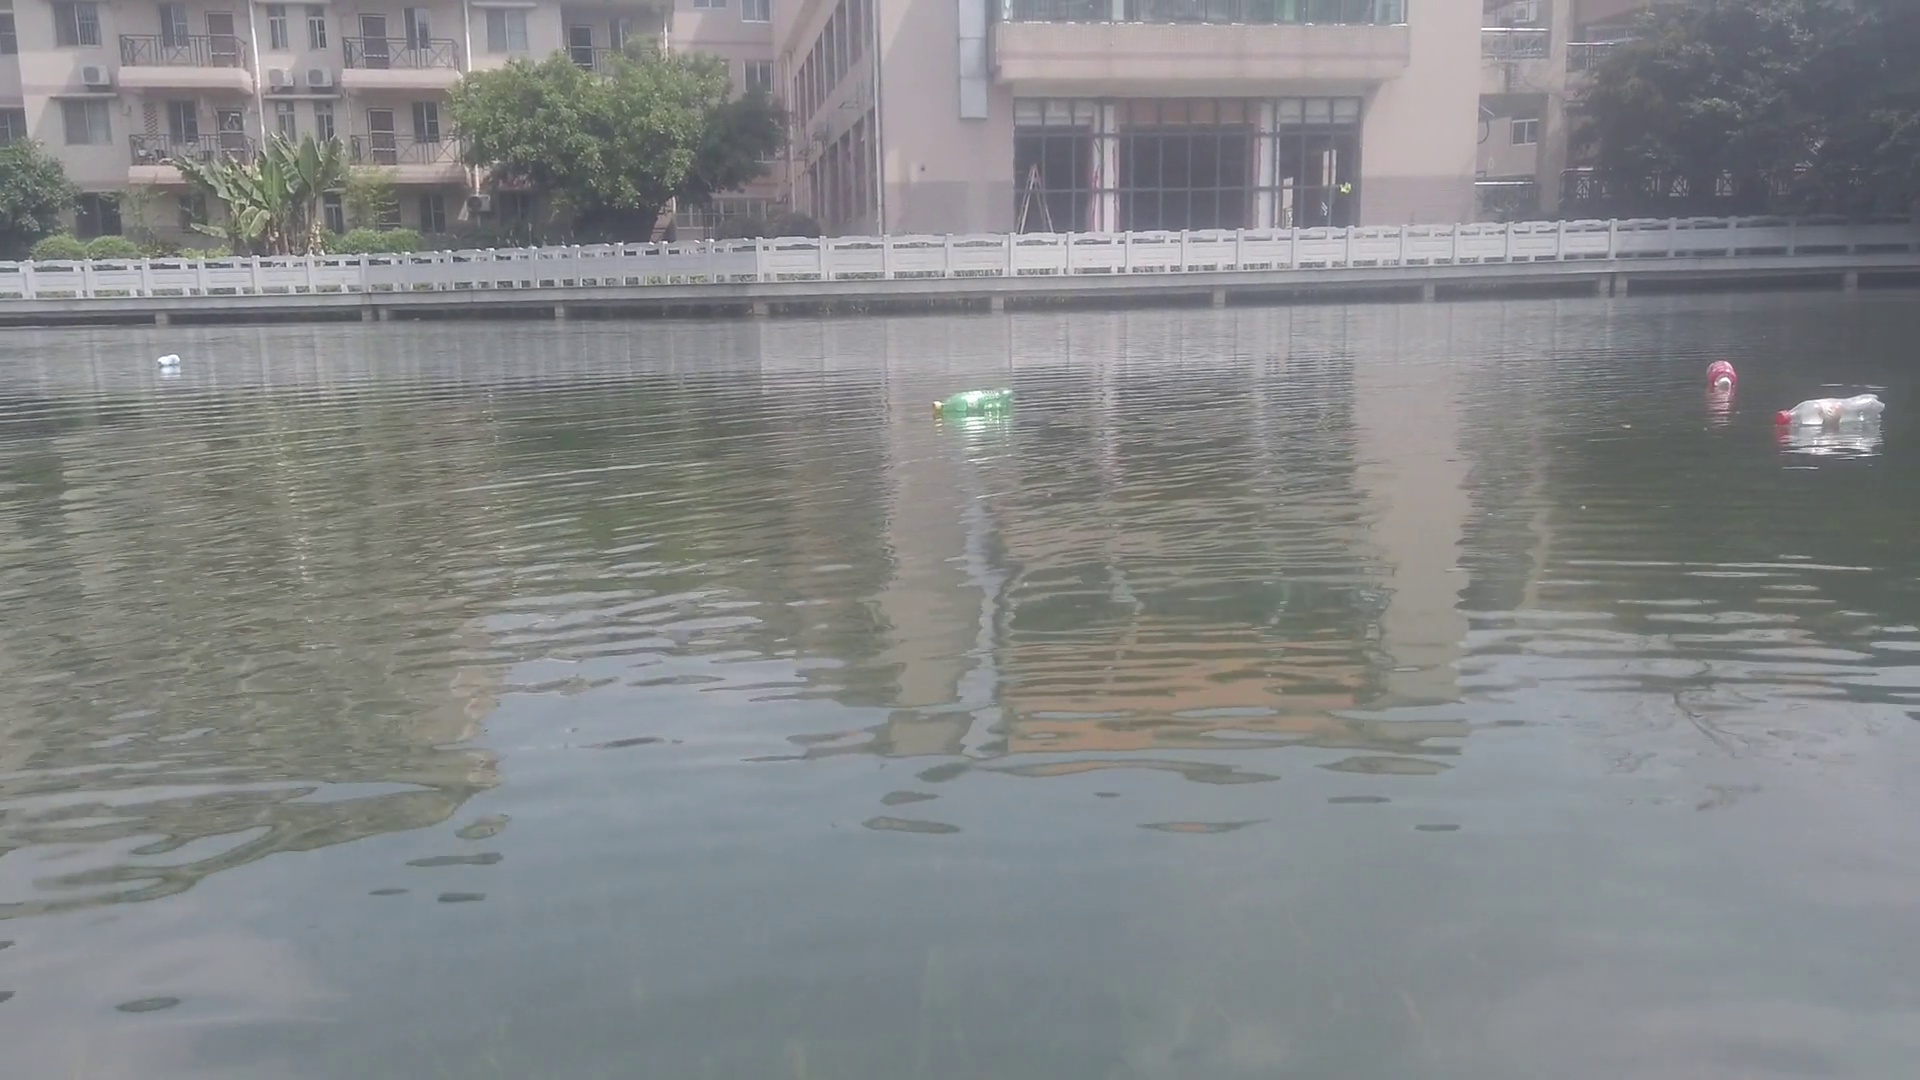bottle: (1770, 394, 1887, 425), (931, 389, 1018, 415), (1706, 357, 1741, 389), (160, 352, 179, 364)
